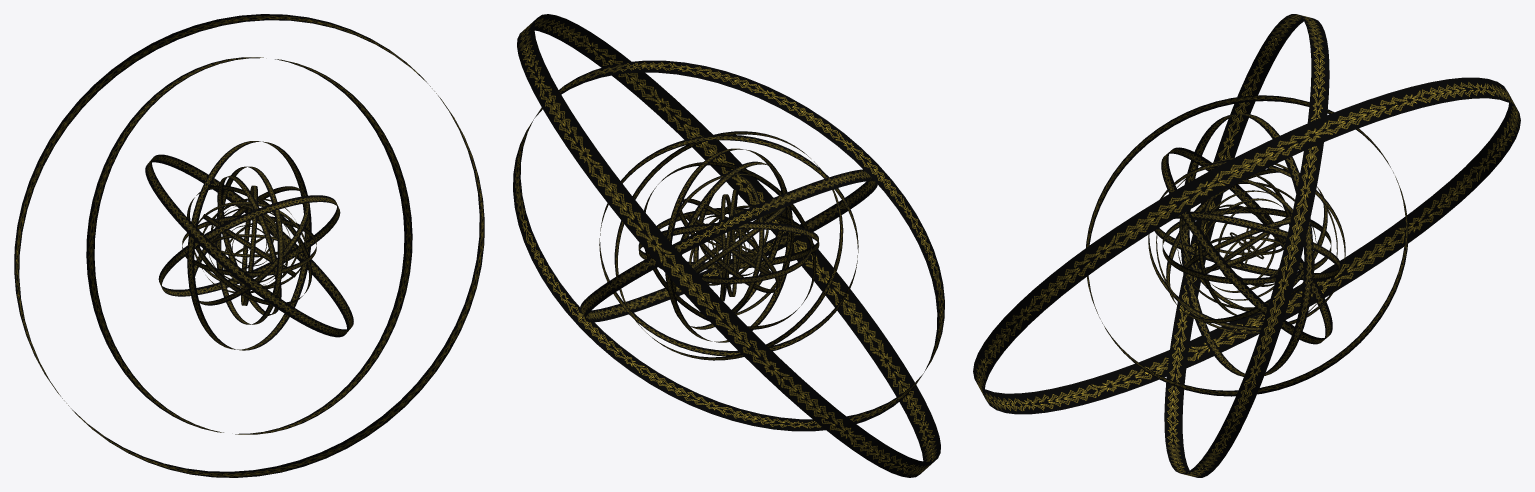
The model's file is chains.fbx.
3 views of the same model, side by side, from view 1: azimuth 30°, elevation 25°; view 2: azimuth 150°, elevation 25°; view 3: azimuth 270°, elevation 25° (orthographic). The views are drawn at different scales.
Parts seen in each view (by area): view 1: Cylinder.026, Cylinder.028, Cylinder.025, Cylinder.017, Cylinder.012, Cylinder.023, Cylinder.014, Cylinder.011, Cylinder.018, Cylinder.006, Cylinder.016, Cylinder.020; view 2: Cylinder.026, Cylinder.028, Cylinder.025, Cylinder.017, Cylinder.012, Cylinder.023, Cylinder.018, Cylinder.011, Cylinder.014, Cylinder.006, Cylinder.008, Cylinder.020 (+4 smaller); view 3: Cylinder.026, Cylinder.028, Cylinder.025, Cylinder.017, Cylinder.012, Cylinder.014, Cylinder.006, Cylinder.023, Cylinder.018, Cylinder.008, Cylinder.016, Cylinder.011 (+1 smaller).
Boxes of the visible parts, x1,y1,x2,y2 form: Cylinder.026: (14, 14, 484, 477); Cylinder.028: (86, 57, 412, 434); Cylinder.025: (145, 154, 353, 337); Cylinder.017: (187, 141, 311, 350); Cylinder.012: (158, 195, 340, 296); Cylinder.023: (215, 166, 283, 324); Cylinder.014: (189, 186, 309, 305); Cylinder.011: (217, 175, 281, 315); Cylinder.018: (187, 185, 312, 304); Cylinder.006: (182, 215, 316, 276); Cylinder.016: (241, 185, 257, 305); Cylinder.020: (194, 201, 306, 288); Cylinder.026: (517, 14, 940, 477); Cylinder.028: (513, 60, 944, 431); Cylinder.025: (580, 169, 877, 322); Cylinder.017: (599, 134, 858, 356); Cylinder.012: (614, 131, 843, 360); Cylinder.023: (665, 148, 792, 342); Cylinder.018: (638, 222, 819, 269); Cylinder.011: (672, 161, 786, 329); Cylinder.014: (644, 161, 816, 329); Cylinder.006: (657, 208, 811, 283); Cylinder.008: (679, 198, 780, 293); Cylinder.020: (693, 175, 764, 312); Cylinder.026: (973, 77, 1520, 414); Cylinder.028: (1164, 14, 1329, 477); Cylinder.025: (1086, 95, 1408, 396); Cylinder.017: (1181, 114, 1313, 376); Cylinder.012: (1161, 147, 1332, 344); Cylinder.014: (1154, 211, 1340, 280); Cylinder.006: (1162, 207, 1331, 284); Cylinder.023: (1148, 160, 1345, 330); Cylinder.018: (1166, 168, 1327, 323); Cylinder.008: (1184, 218, 1290, 272); Cylinder.016: (1179, 179, 1314, 313); Cylinder.011: (1156, 157, 1337, 333).
Size of the model in its own units: 400288 by 364883 by 430183.
